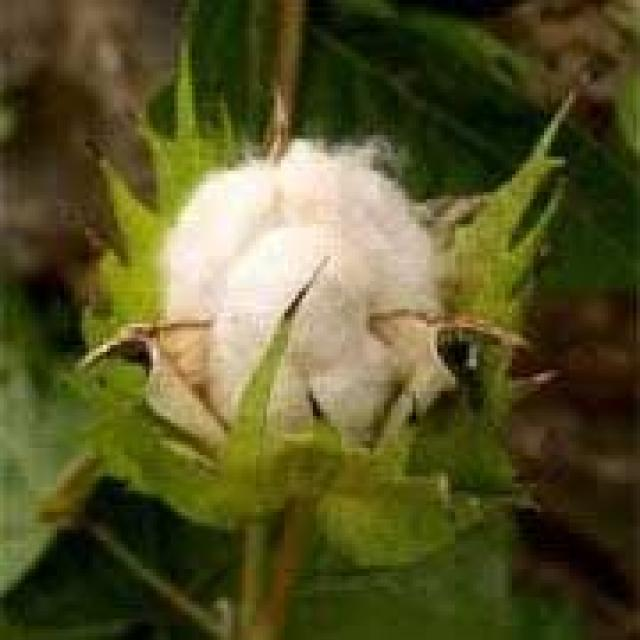Leaf: (134, 124, 468, 467)
